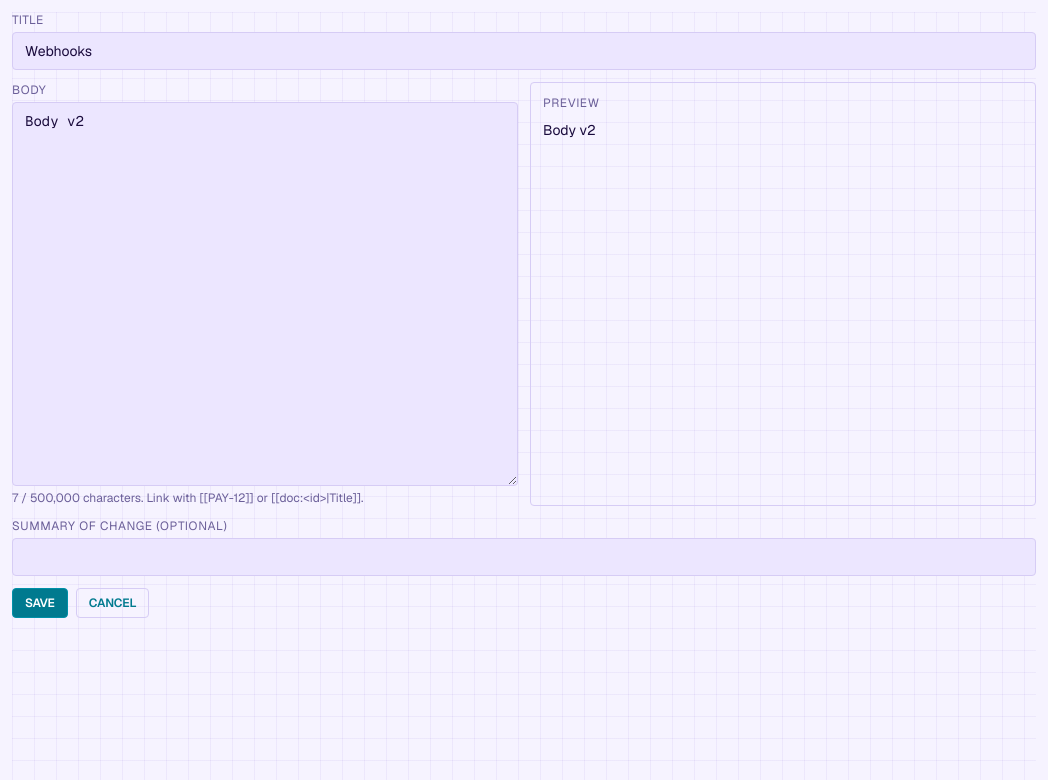
Test: DocEditor › shows a preview of the draft
Replace the text in the text box labelled "Body" with "# Heading here" at (265, 294), box [12,102,518,486]
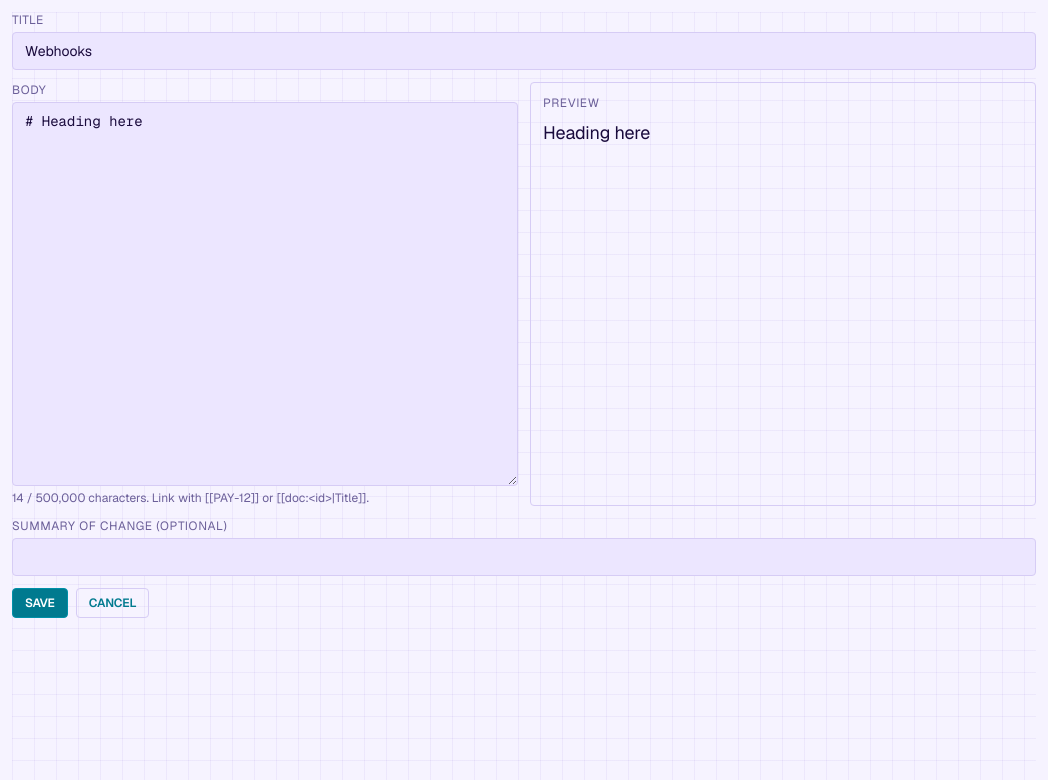
Expected: the heading "Heading here" is shown, [543,121,650,144]
